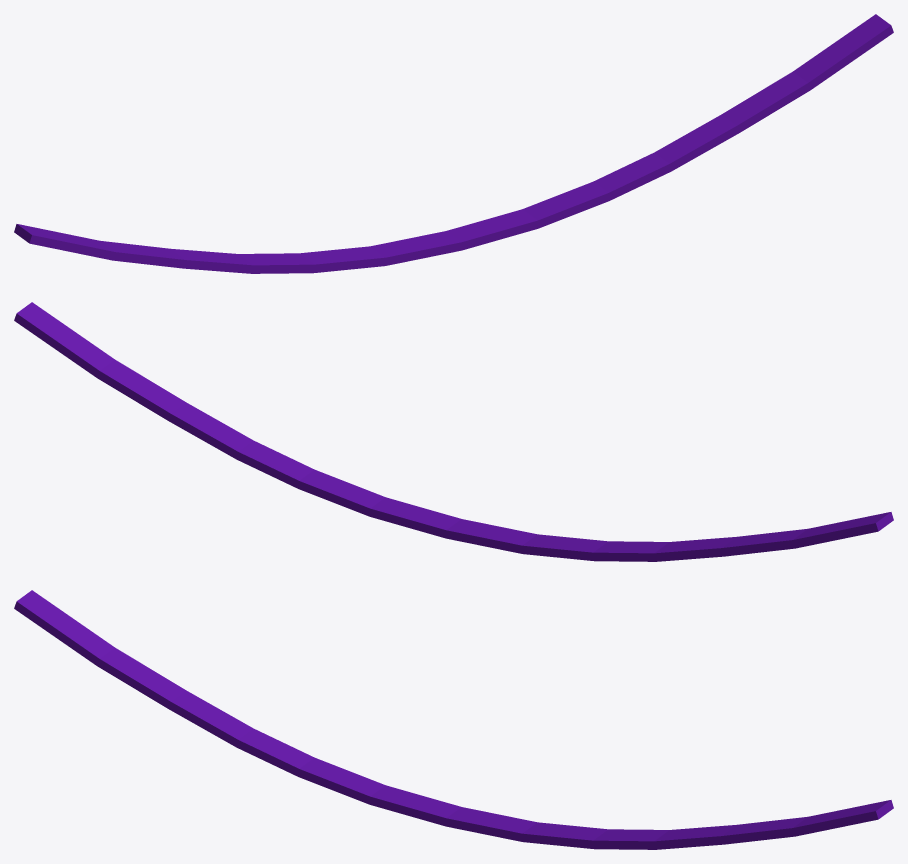
Rendered from Tape_6.001_chunks.fbx.
3 renders of one model, top to bottom at view 1: azimuth 30°, elevation 25°; view 2: azimuth 150°, elevation 25°; view 3: azimuth 330°, elevation 25°, orthographic.
Visible parts, largest first — view 1: Tape_6.001_2, Tape_6.001_1, Tape_6.001_0, Tape_6.001_3; view 2: Tape_6.001_2, Tape_6.001_1, Tape_6.001_3, Tape_6.001_0; view 3: Tape_6.001_2, Tape_6.001_1, Tape_6.001_0, Tape_6.001_3.
Boxes of the visible parts, x1,y1,x2,y2 form: Tape_6.001_2: (471, 14, 893, 243); Tape_6.001_1: (164, 224, 486, 273); Tape_6.001_0: (24, 231, 234, 270); Tape_6.001_3: (14, 224, 167, 250); Tape_6.001_2: (14, 302, 440, 529); Tape_6.001_1: (417, 513, 753, 561); Tape_6.001_3: (725, 515, 887, 553); Tape_6.001_0: (689, 512, 893, 542); Tape_6.001_2: (466, 800, 893, 849); Tape_6.001_1: (170, 687, 485, 831); Tape_6.001_0: (14, 598, 220, 729); Tape_6.001_3: (21, 590, 182, 688).
Size of the model in its own units: 776 by 103 by 24.08.
